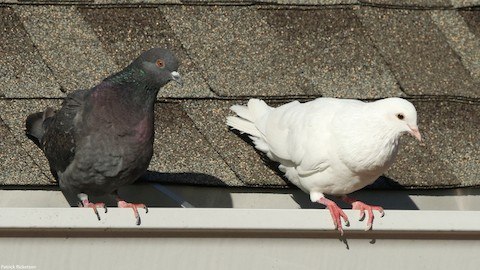pigeon: (24, 46, 186, 226), (225, 93, 428, 235)
